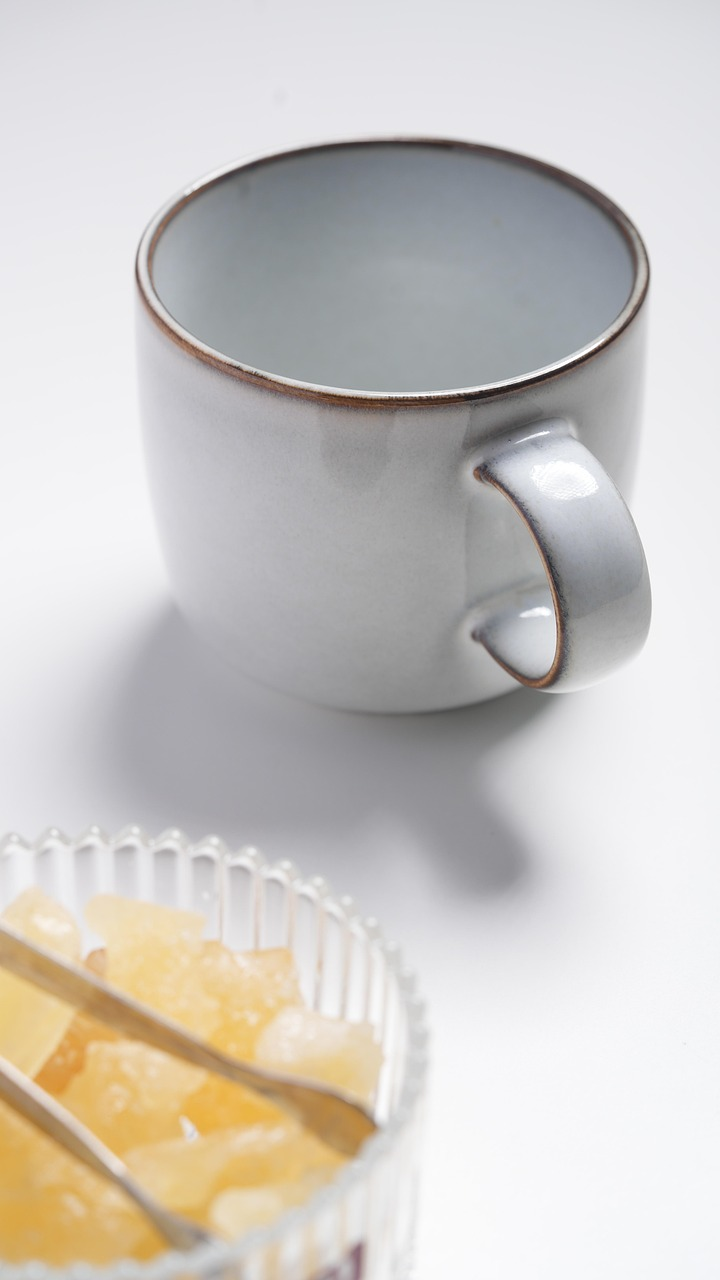mug: (78, 125, 672, 757)
